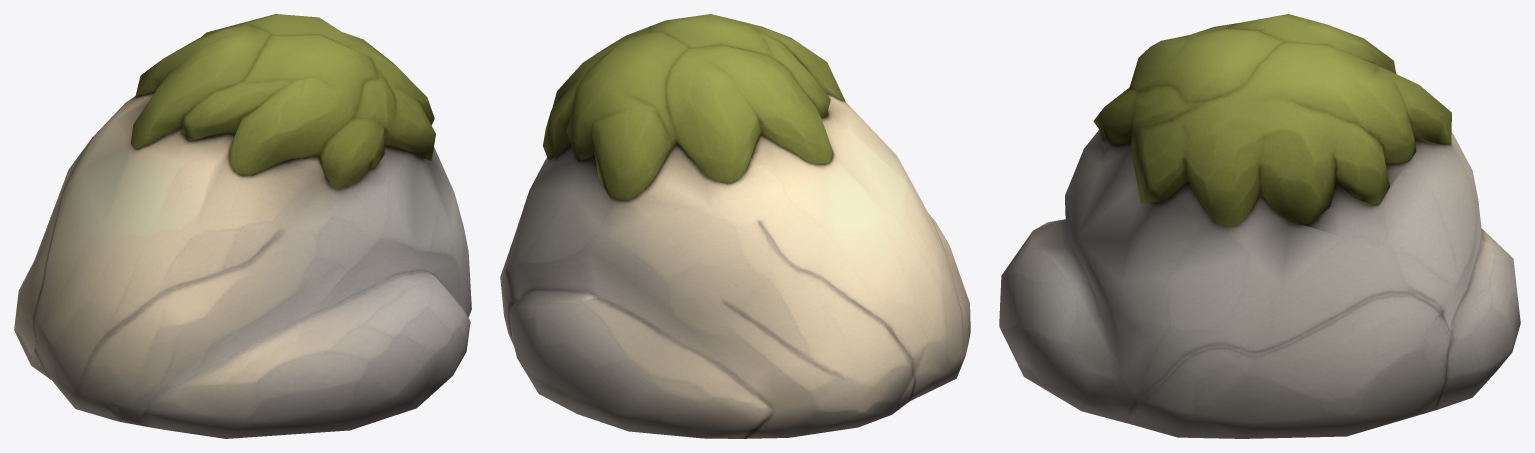
File: boulder.glb
The picture shows the model from 3 angles, left to right: view 1: azimuth 30°, elevation 25°; view 2: azimuth 150°, elevation 25°; view 3: azimuth 270°, elevation 25°; orthographic projection. The views are drawn at different scales.
Parts seen in each view (by area): view 1: geometry_0.001; view 2: geometry_0.001; view 3: geometry_0.001.
Part boxes in pixels (<box>): geometry_0.001: <box>14,14,471,438</box>; geometry_0.001: <box>500,14,970,438</box>; geometry_0.001: <box>999,14,1520,438</box>.
Bounding box in the file's own units: 1.88 × 1.38 × 2.
1 material, 1 textured.
